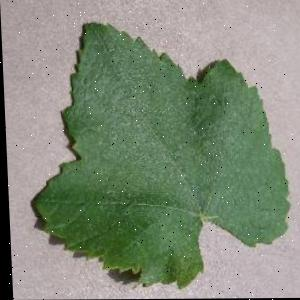Folha: (21, 19, 292, 290)
